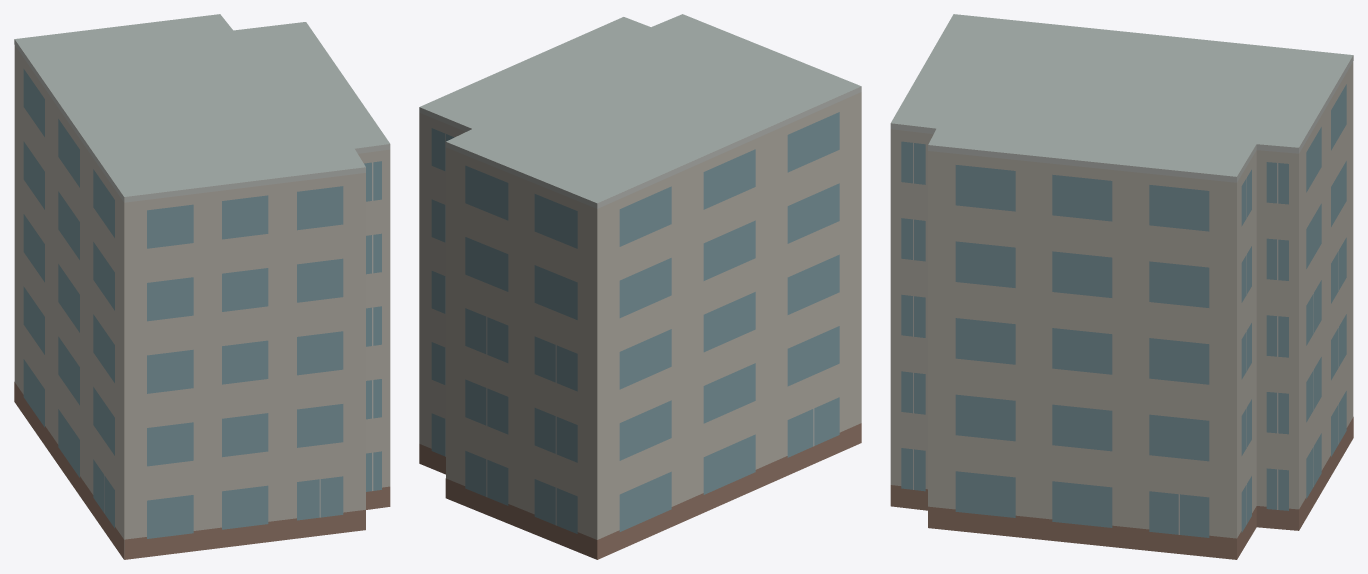
The model's file is survey-upis-32665258.glb.
3 views of the same model, side by side, from view 1: azimuth 30°, elevation 25°; view 2: azimuth 150°, elevation 25°; view 3: azimuth 270°, elevation 25° (orthographic). The views are drawn at different scales.
Parts seen in each view (by area): view 1: survey-upis-32665258.tmp; view 2: survey-upis-32665258.tmp; view 3: survey-upis-32665258.tmp.
Boxes of the visible parts, x1,y1,x2,y2 form: survey-upis-32665258.tmp: (14, 14, 390, 559); survey-upis-32665258.tmp: (419, 14, 861, 559); survey-upis-32665258.tmp: (890, 14, 1353, 559).
Bounding box in the file's own units: 14.32 × 15.7 × 17.2.
